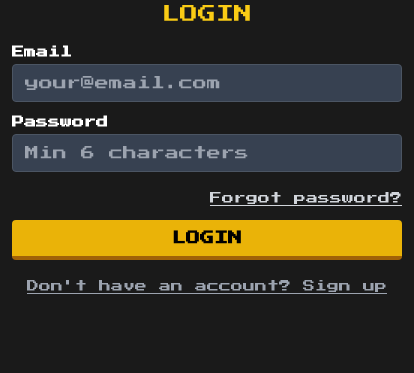
it: AuthScreen › shows a clear error when forgot password is clicked without email
Click the button "Forgot password?": (306, 198) [210,190,402,206]
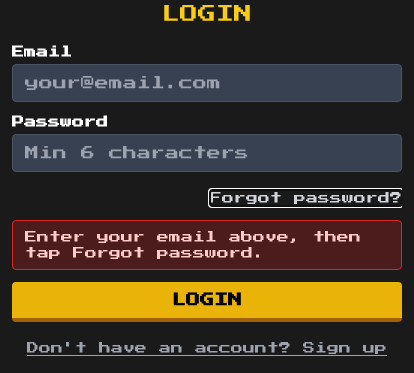
Expected: the text "Enter your email above, then tap Forgot password." is shown, [12,220,402,270]
